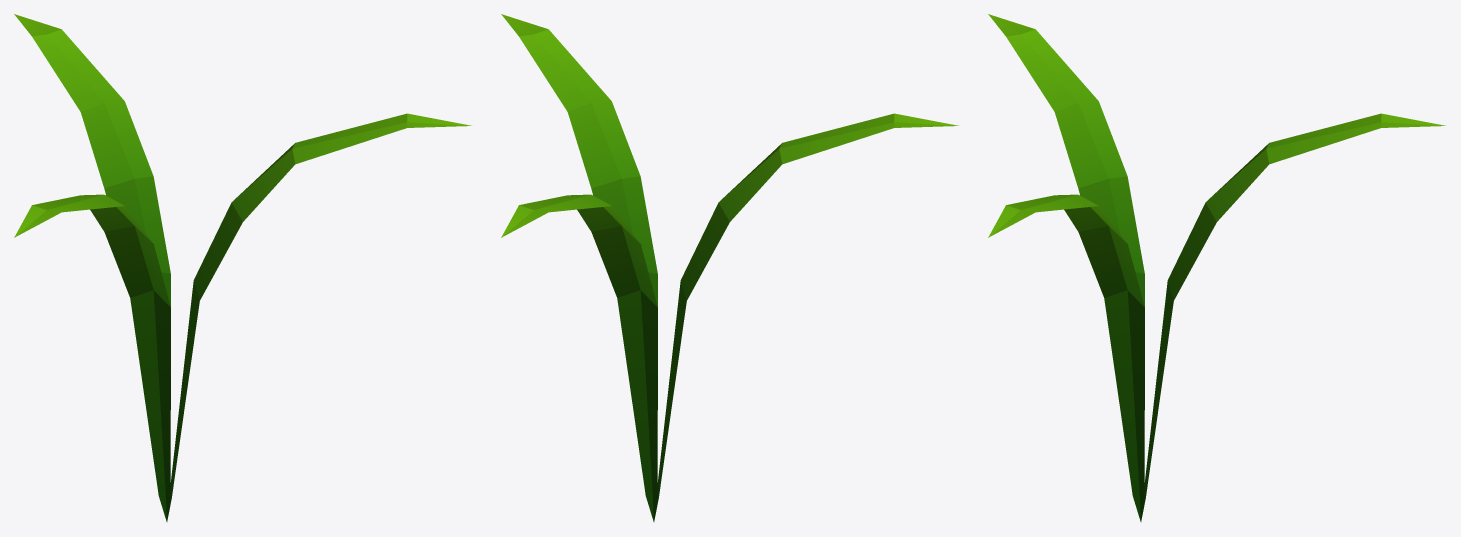
The model's file is grass_5.fbx.
3 renders of one model, left to right at view 1: azimuth 30°, elevation 25°; view 2: azimuth 150°, elevation 25°; view 3: azimuth 270°, elevation 25°, orthographic.
Parts seen in each view (by area): view 1: grass_5; view 2: grass_5; view 3: grass_5.
Part boxes in pixels (left/top/right/bottom): grass_5: left=14, top=14, right=471, bottom=521; grass_5: left=501, top=14, right=958, bottom=521; grass_5: left=988, top=14, right=1445, bottom=521.
Bounding box in the file's own units: 0.7393 × 0.6191 × 0.6402.
